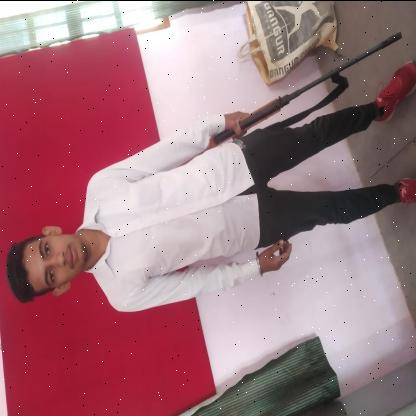rifle: (206, 29, 404, 150)
